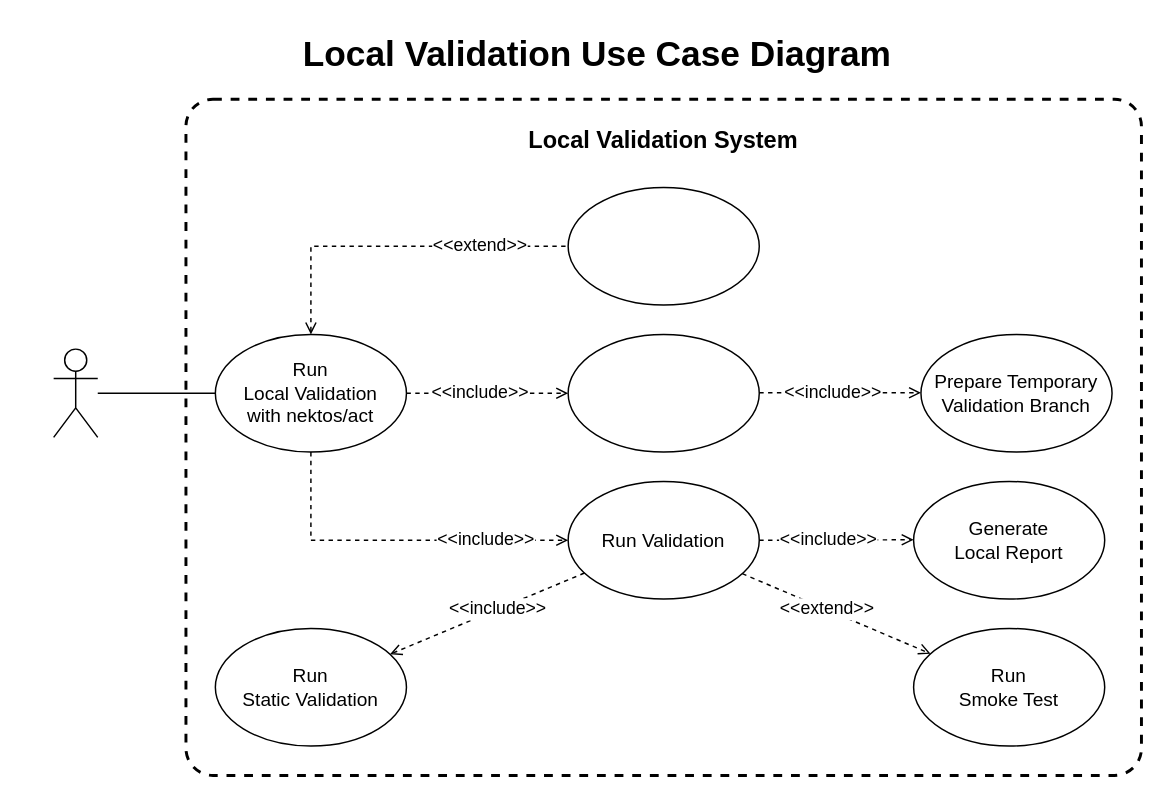
Some shapes in this 1169 by 801 pixel diagram are drawn without their labels. The shapes that lost their labels are listed below. From the top down, each one's box as (x1, y1, x2, y2) in pixels, then its label:
(567, 186, 759, 305): Fix Failure Before PR
(52, 348, 98, 437): Contributor
(567, 333, 759, 452): Sync Upstream
